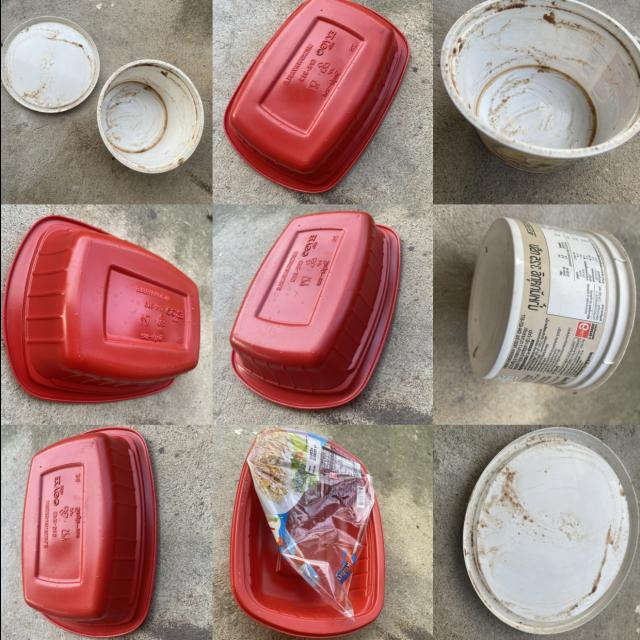plastik: (2, 216, 199, 402), (463, 427, 637, 634), (224, 0, 408, 193), (439, 0, 640, 173), (229, 211, 399, 409), (229, 427, 384, 637), (467, 218, 634, 393), (22, 427, 155, 637), (96, 59, 203, 174), (0, 16, 98, 113)
